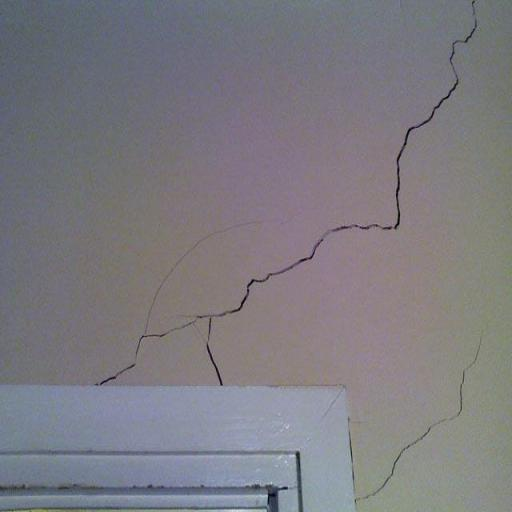spalling: (91, 8, 482, 391)
